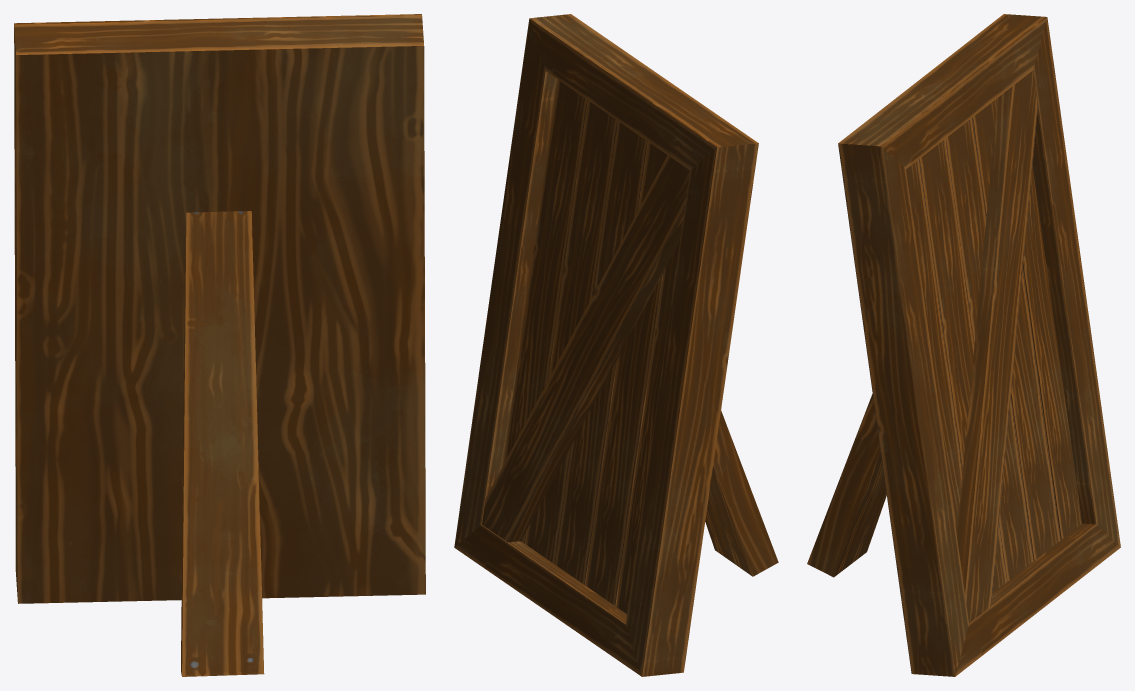
The picture shows the model from 3 angles, left to right: view 1: azimuth 30°, elevation 25°; view 2: azimuth 150°, elevation 25°; view 3: azimuth 270°, elevation 25°; orthographic projection. The views are drawn at different scales.
Visible parts, largest first — view 1: Cube.1879; view 2: Cube.1879; view 3: Cube.1879.
Part boxes in pixels (box(x1,y1,x2,y2)): Cube.1879: box(14, 14, 425, 676); Cube.1879: box(454, 14, 778, 676); Cube.1879: box(807, 14, 1120, 676).
Bounding box in the file's own units: 225 × 341 × 186.
1 material, 1 textured.
